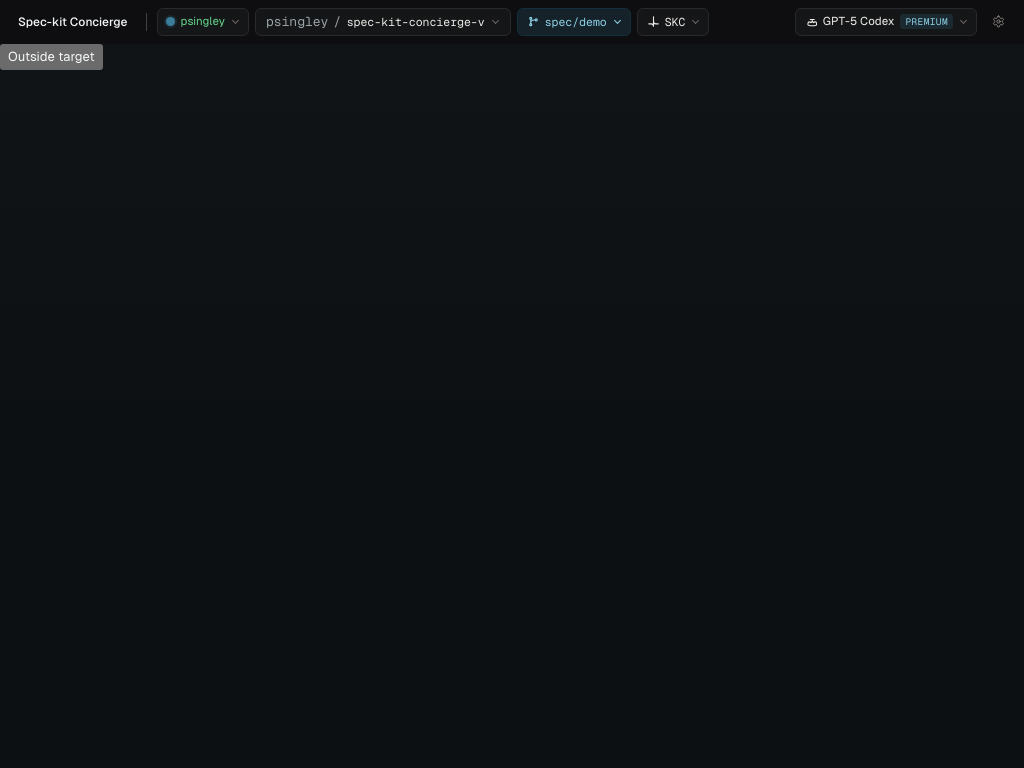
Test: Titlebar dropdowns › shows an honest empty state when the signed-in account has no repositories
The width and height of the screenshot is (1024, 768).
Click the button with aria-label "psingley/spec-kit-concierge-v". click: (383, 22)
box: top-left (255, 8), bottom-right (511, 36)
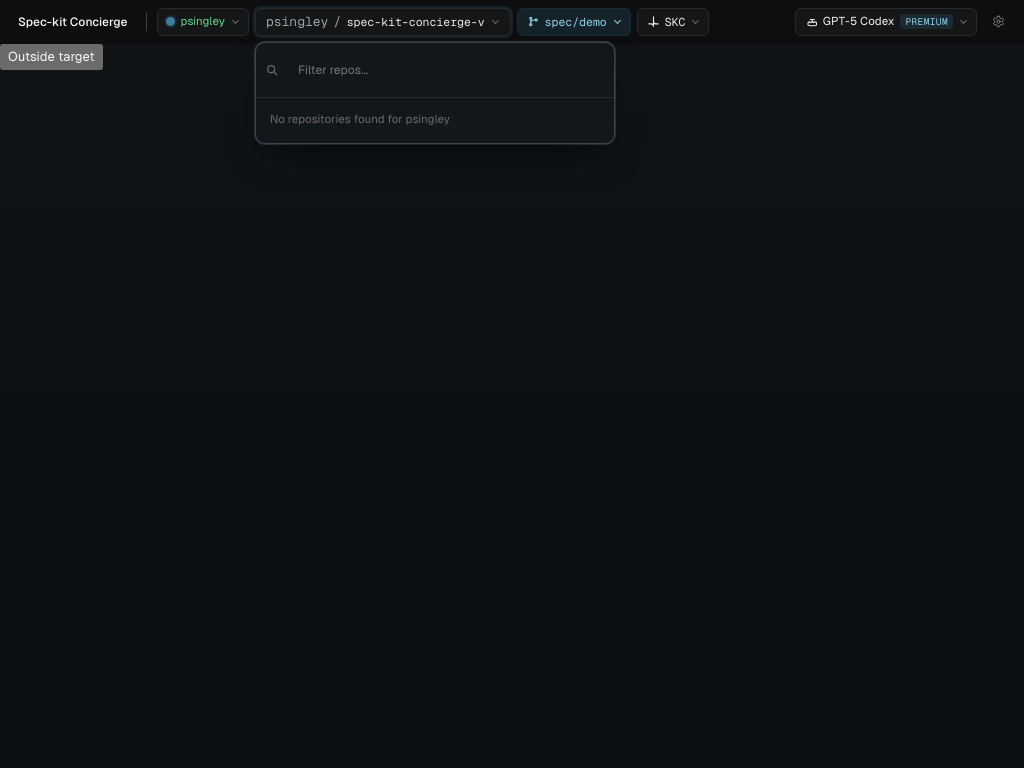
Expected: the text "No repositories found for psingley" is shown, top-left (270, 112), bottom-right (450, 126)
